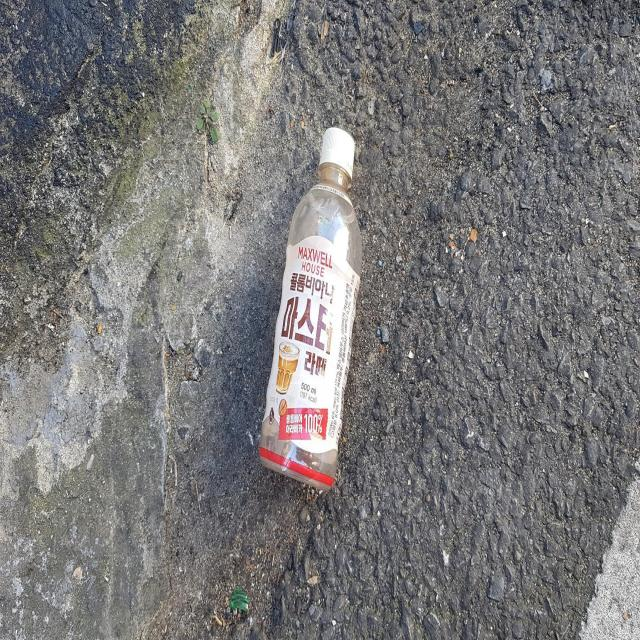plastic: (259, 126, 362, 489)
